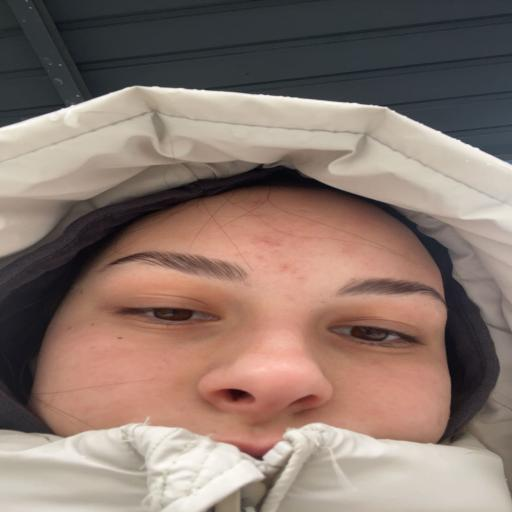marija: (41, 190, 448, 439)
